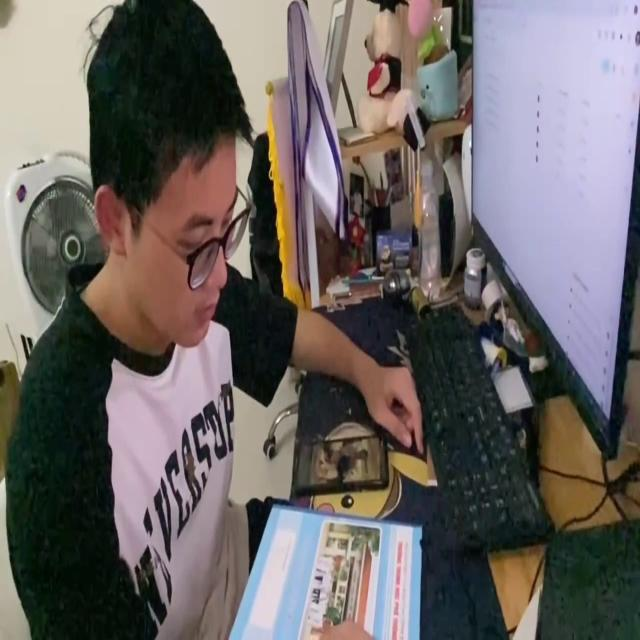book: (231, 499, 424, 640)
laptop: (466, 0, 640, 468)
phone: (285, 429, 389, 496)
student: (5, 3, 426, 640)
